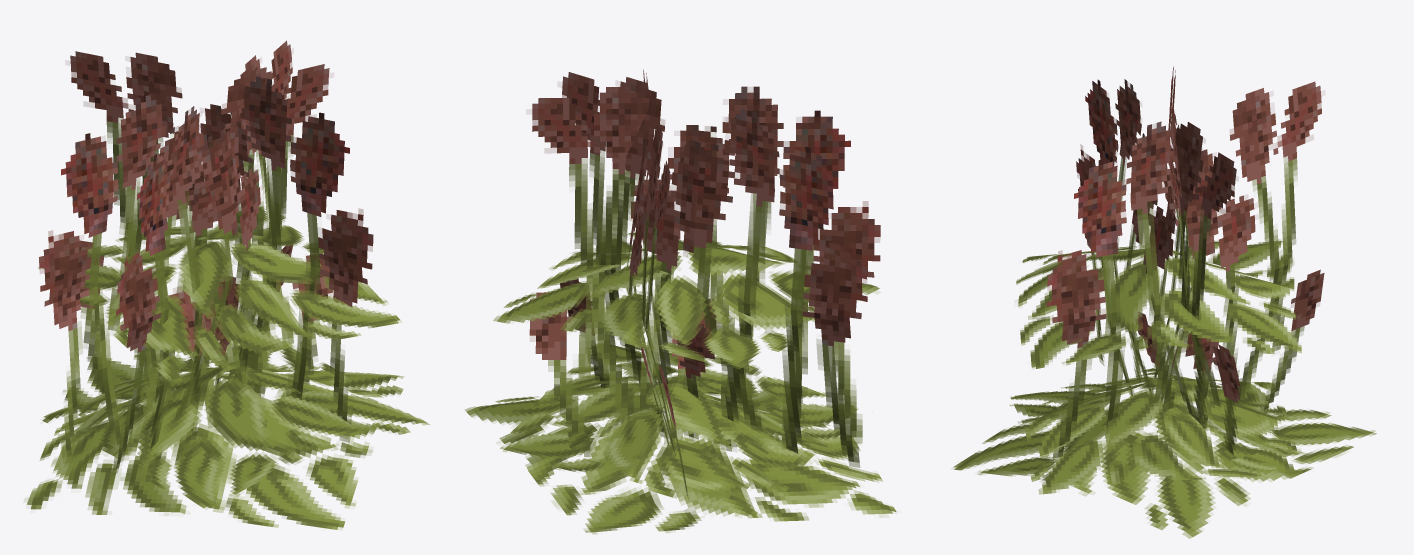
Rendered from flower_red.glb.
3 renders of one model, left to right at view 1: azimuth 30°, elevation 25°; view 2: azimuth 150°, elevation 25°; view 3: azimuth 270°, elevation 25°, orthographic. The views are drawn at different scales.
Visible parts, largest first — view 1: flower_red; view 2: flower_red; view 3: flower_red.
Part boxes in pixels (box(x1,y1,x2,y2)): flower_red: box(23, 40, 429, 529); flower_red: box(465, 69, 896, 534); flower_red: box(952, 66, 1376, 538).
Size of the model in its own units: 0.7077 by 0.617 by 0.7099.
Materials: 1 (1 with a texture image).
